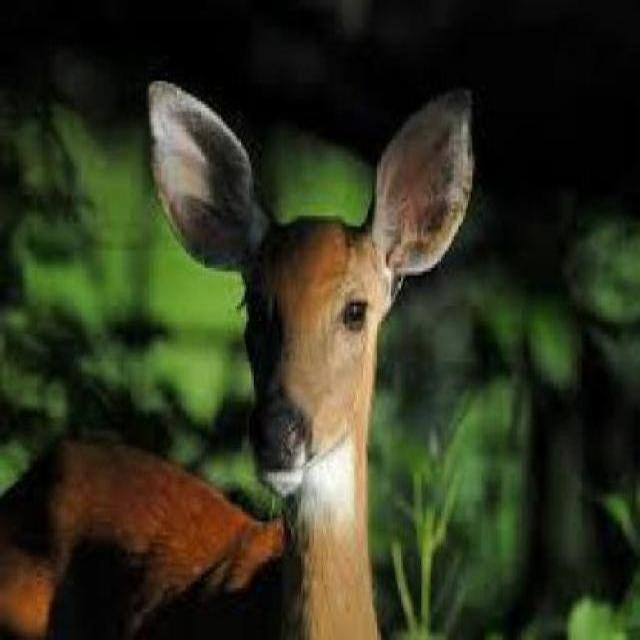deer: (9, 64, 482, 637)
